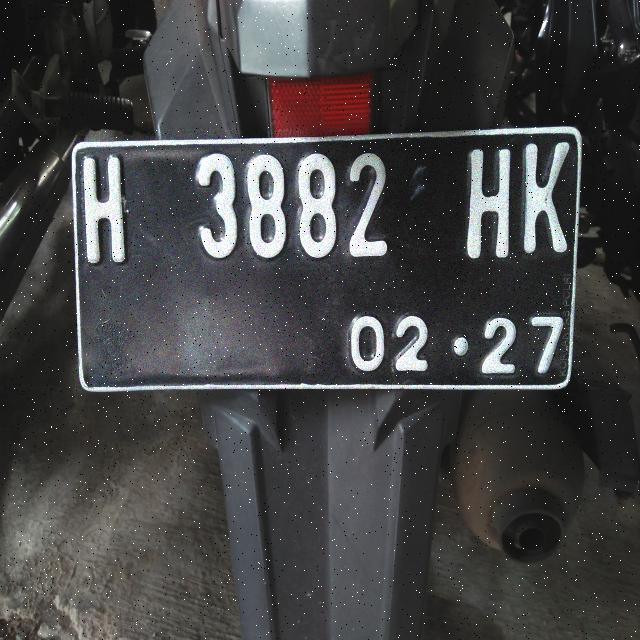plate: (73, 129, 580, 389)
